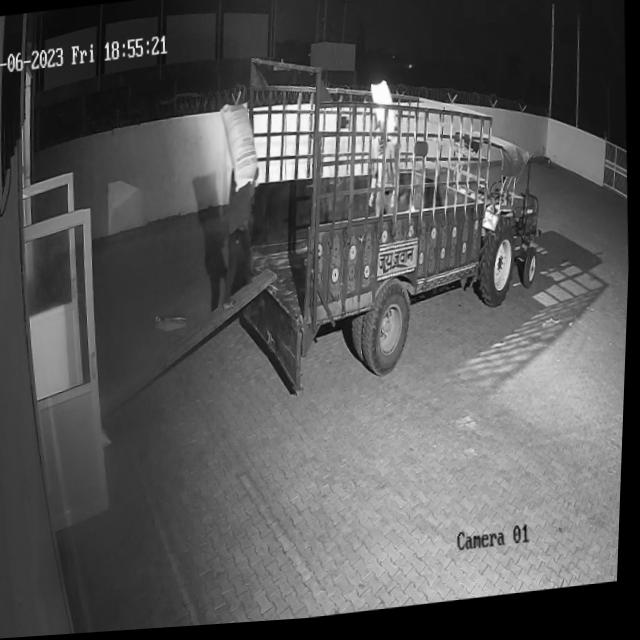sack: (219, 103, 262, 197)
